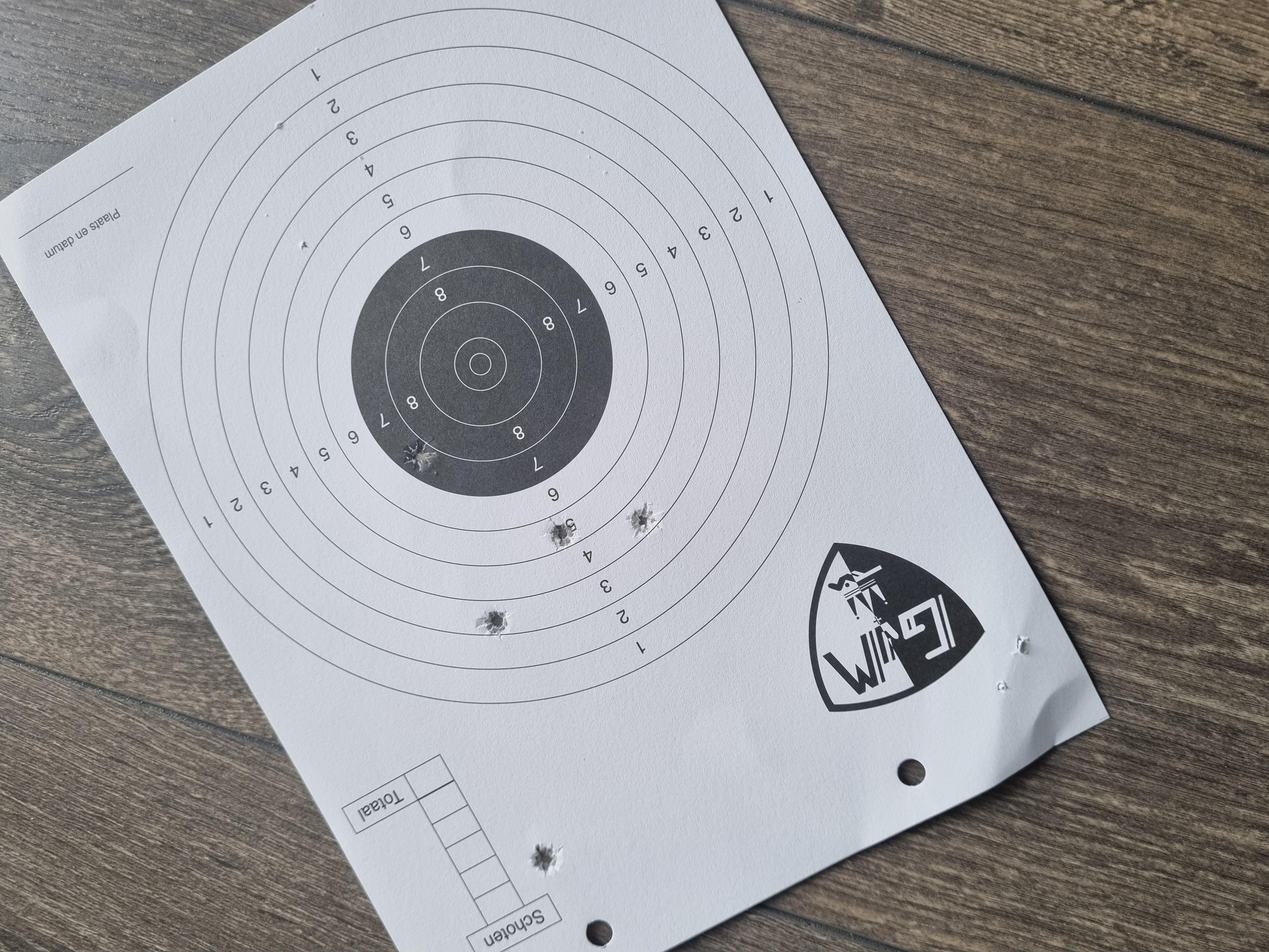hole: (640, 302, 686, 328), (554, 470, 600, 494), (416, 356, 458, 382), (100, 398, 143, 423), (531, 412, 577, 433)
